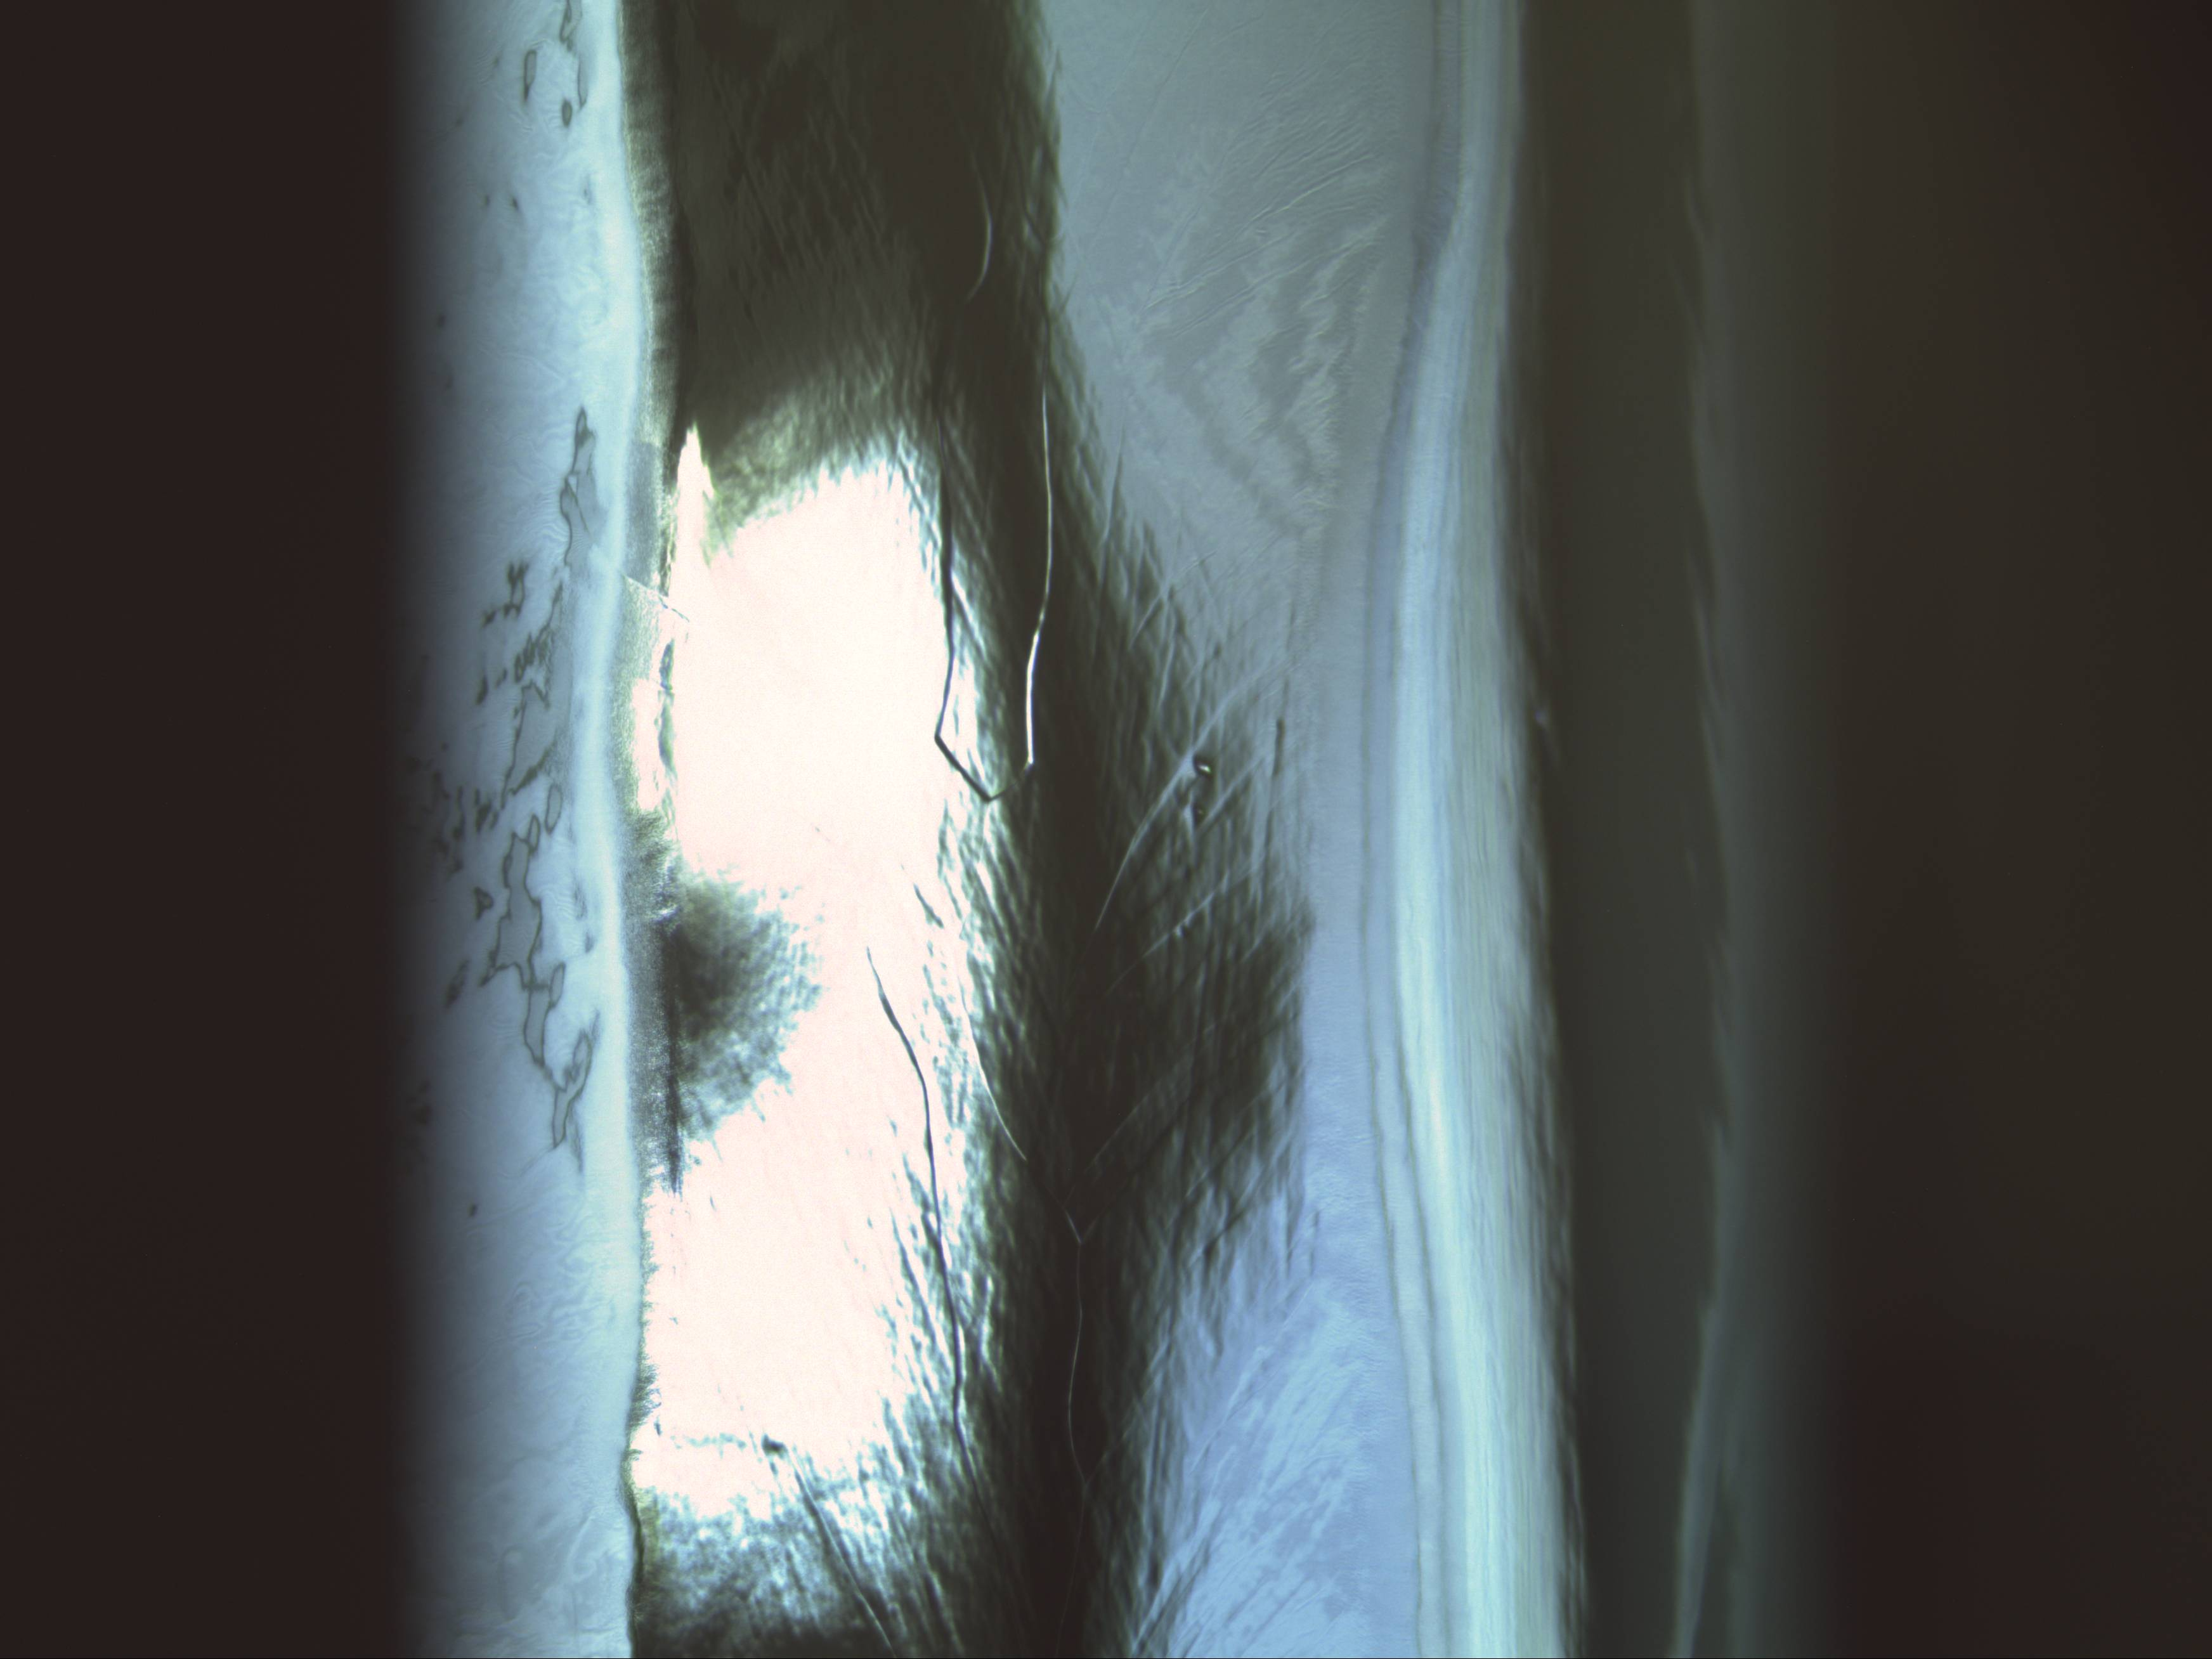defect: (1186, 749, 1219, 789)
